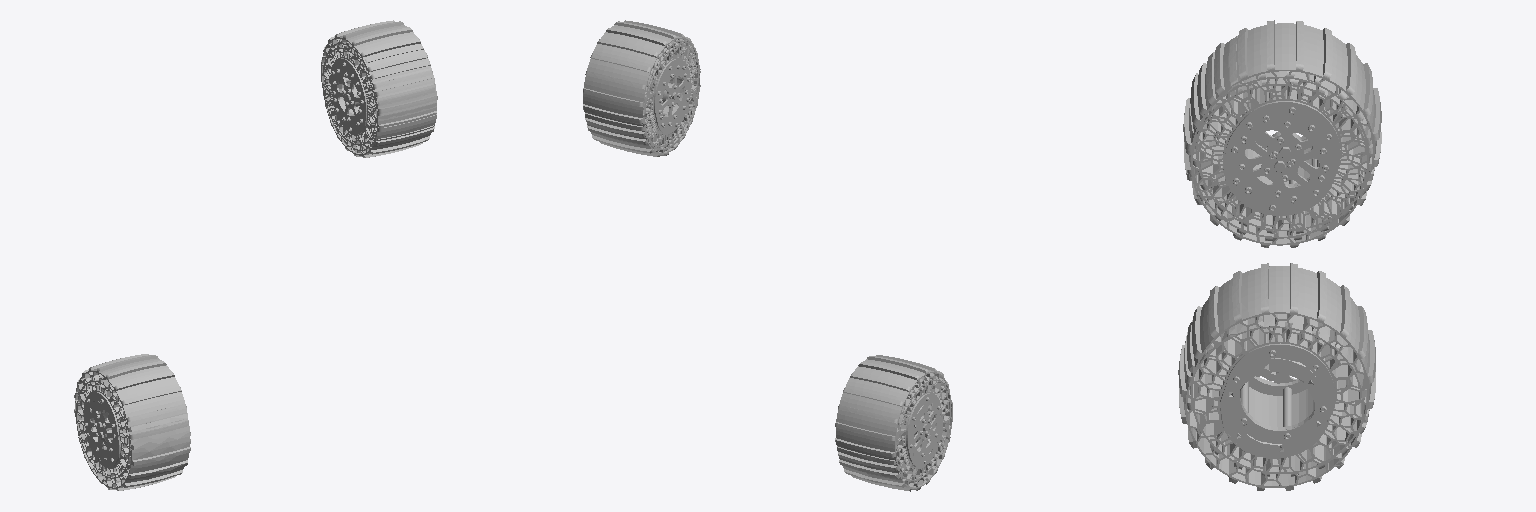
URDF robot description (MR24-DT-A00.00_2.SLDASM):
<?xml version='1.0' encoding='utf-8'?>
<robot name="MR24-DT-A00.00_2.SLDASM">
  <link name="base_link">
    <inertial>
      <origin xyz="-0.000885923205321869 -0.028119179443882 0.0975795573636295" rpy="0 0 0" />
      <mass value="9.38345533967687" />
      <inertia ixx="0.0130902222960498" ixy="1.8427558457332E-06" ixz="-1.01248654001176E-09" iyy="0.0207681971565289" iyz="0.00110801941555495" izz="0.0292659491028059" />
    </inertial>
    <visual>
      <origin xyz="0 0 0" rpy="0 0 0" />
      <geometry>
        <mesh filename="../meshes/base_link.STL" />
      </geometry>
      <material name="">
        <color rgba="0.752941176470588 0.752941176470588 0.752941176470588 1" />
      </material>
    </visual>
    <collision>
      <origin xyz="0 0 0" rpy="0 0 0" />
      <geometry>
        <mesh filename="../meshes/base_link.STL" />
      </geometry>
    </collision>
  </link>
  <link name="Front_Left Wheel">
    <inertial>
      <origin xyz="-1.03548082763805E-06 0.00282335706328918 5.97855537354253E-07" rpy="0 0 0" />
      <mass value="1.45375895562109" />
      <inertia ixx="0.00515687387483678" ixy="-4.54997044063511E-09" ixz="-5.28518624676698E-09" iyy="0.00750126301372881" iyz="2.62479822634305E-09" izz="0.00515686780911825" />
    </inertial>
    <visual>
      <origin xyz="0 0 0" rpy="1.5708 0 0" />
      <geometry>
        <mesh filename="../meshes/Front_Left Wheel.STL" />
      </geometry>
      <material name="">
        <color rgba="0.752941176470588 0.752941176470588 0.752941176470588 1" />
      </material>
    </visual>
    <collision>
      <origin xyz="0 0 0" rpy="1.5708 0 0" />
      <geometry>
        <mesh filename="../meshes/Front_Left Wheel.STL" />
      </geometry>
    </collision>
  </link>
  <joint name="Front_Left Wheel Joint" type="continuous">
    <origin xyz="0.000000 0.000000 0.498351" rpy="0 0 0" />
    <parent link="base_link" />
    <child link="Front_Left Wheel" />
    <axis xyz="0 -1 0" />
  </joint>
  <link name="Front_Right Wheel">
    <inertial>
      <origin xyz="-1.03548080176985E-06 0.00282335706325032 5.97855546069503E-07" rpy="0 0 0" />
      <mass value="1.45375895562017" />
      <inertia ixx="0.00515687387483691" ixy="-4.54997059706509E-09" ixz="-5.28518657433156E-09" iyy="0.00750126301372899" iyz="2.62479818211546E-09" izz="0.0051568678091181" />
    </inertial>
    <visual>
      <origin xyz="0 0 0" rpy="1.5708 0 0" />
      <geometry>
        <mesh filename="../meshes/Front_Right Wheel.STL" />
      </geometry>
      <material name="">
        <color rgba="0.752941176470588 0.752941176470588 0.752941176470588 1" />
      </material>
    </visual>
    <collision>
      <origin xyz="0 0 0" rpy="1.5708 0 0" />
      <geometry>
        <mesh filename="../meshes/Front_Right Wheel.STL" />
      </geometry>
    </collision>
  </link>
  <joint name="Front_Right Wheel Joint" type="continuous">
    <origin xyz="0.000000 0.000000 0.498464" rpy="0 0 0" />
    <parent link="base_link" />
    <child link="Front_Right Wheel" />
    <axis xyz="0 -1 0" />
  </joint>
  <link name="Center_Left Wheel">
    <inertial>
      <origin xyz="-1.03548080172822E-06 0.0028233570632506 5.97855545736437E-07" rpy="0 0 0" />
      <mass value="1.45375895562016" />
      <inertia ixx="0.00515687387483907" ixy="-4.54997063834433E-09" ixz="-5.28518586577834E-09" iyy="0.00750126301373391" iyz="2.62479826947741E-09" izz="0.00515686780912049" />
    </inertial>
    <visual>
      <origin xyz="0 0 0" rpy="1.5708 0 0" />
      <geometry>
        <mesh filename="../meshes/Center_Left Wheel.STL" />
      </geometry>
      <material name="">
        <color rgba="0.752941176470588 0.752941176470588 0.752941176470588 1" />
      </material>
    </visual>
    <collision>
      <origin xyz="0 0 0" rpy="1.5708 0 0" />
      <geometry>
        <mesh filename="../meshes/Center_Left Wheel.STL" />
      </geometry>
    </collision>
  </link>
  <joint name="Center_Left Wheel Joint" type="continuous">
    <origin xyz="0.000000 0.005589 0.506384" rpy="0 0 0" />
    <parent link="base_link" />
    <child link="Center_Left Wheel" />
    <axis xyz="0 -1 0" />
  </joint>
  <link name="Center_Right Wheel">
    <inertial>
      <origin xyz="-1.03548080190863E-06 0.0028233570632511 5.97855545958481E-07" rpy="0 0 0" />
      <mass value="1.45375895562016" />
      <inertia ixx="0.00515687387483913" ixy="-4.54997069864924E-09" ixz="-5.28518622969079E-09" iyy="0.00750126301373414" iyz="2.62479807474661E-09" izz="0.00515686780912046" />
    </inertial>
    <visual>
      <origin xyz="0 0 0" rpy="1.5708 0 0" />
      <geometry>
        <mesh filename="../meshes/Center_Right Wheel.STL" />
      </geometry>
      <material name="">
        <color rgba="0.752941176470588 0.752941176470588 0.752941176470588 1" />
      </material>
    </visual>
    <collision>
      <origin xyz="0 0 0" rpy="1.5708 0 0" />
      <geometry>
        <mesh filename="../meshes/Center_Right Wheel.STL" />
      </geometry>
    </collision>
  </link>
  <joint name="Center_Right Wheel Joint" type="continuous">
    <origin xyz="0.000000 0.005563 0.506384" rpy="0 0 0" />
    <parent link="base_link" />
    <child link="Center_Right Wheel" />
    <axis xyz="0 -1 0" />
  </joint>
  <link name="Rear_Left Wheel">
    <inertial>
      <origin xyz="-1.03548080149229E-06 0.00282335706325076 5.97855546569104E-07" rpy="0 0 0" />
      <mass value="1.45375895562016" />
      <inertia ixx="0.00515687387483777" ixy="-4.54997062894092E-09" ixz="-5.28518575611129E-09" iyy="0.00750126301373237" iyz="2.62479850527491E-09" izz="0.00515686780911965" />
    </inertial>
    <visual>
      <origin xyz="0 0 0" rpy="1.5708 0 0" />
      <geometry>
        <mesh filename="../meshes/Rear_Left Wheel.STL" />
      </geometry>
      <material name="">
        <color rgba="0.752941176470588 0.752941176470588 0.752941176470588 1" />
      </material>
    </visual>
    <collision>
      <origin xyz="0 0 0" rpy="1.5708 0 0" />
      <geometry>
        <mesh filename="../meshes/Rear_Left Wheel.STL" />
      </geometry>
    </collision>
  </link>
  <joint name="Rear_Left Wheel Joint" type="continuous">
    <origin xyz="0.000000 0.000000 0.490124" rpy="0 0 0" />
    <parent link="base_link" />
    <child link="Rear_Left Wheel" />
    <axis xyz="0 -1 0" />
  </joint>
  <link name="Rear_Right Wheel">
    <inertial>
      <origin xyz="-1.03548080071514E-06 0.00282335706325076 5.9785554540337E-07" rpy="0 0 0" />
      <mass value="1.45375895562016" />
      <inertia ixx="0.00515687387483825" ixy="-4.54997027073155E-09" ixz="-5.2851861444725E-09" iyy="0.00750126301373297" iyz="2.62479818011765E-09" izz="0.00515686780911977" />
    </inertial>
    <visual>
      <origin xyz="0 0 0" rpy="1.5708 0 0" />
      <geometry>
        <mesh filename="../meshes/Rear_Right Wheel.STL" />
      </geometry>
      <material name="">
        <color rgba="0.752941176470588 0.752941176470588 0.752941176470588 1" />
      </material>
    </visual>
    <collision>
      <origin xyz="0 0 0" rpy="1.5708 0 0" />
      <geometry>
        <mesh filename="../meshes/Rear_Right Wheel.STL" />
      </geometry>
    </collision>
  </link>
  <joint name="Rear_Right Wheel Joint" type="continuous">
    <origin xyz="0.000000 0.000000 0.489950" rpy="0 0 0" />
    <parent link="base_link" />
    <child link="Rear_Right Wheel" />
    <axis xyz="0 -1 0" />
  </joint>
</robot>

--- What the picture shows (computed from the rendered views, not written in the file) ---
3 views of the same robot in one strip: view 1: azimuth 30°, elevation 25°; view 2: azimuth 150°, elevation 25°; view 3: azimuth 270°, elevation 25° (orthographic).
Model MR24-DT-A00.00_2.SLDASM with 7 links and 6 joints (6 continuous), rooted at base_link, posed every joint at zero.
Links seen in each view (by area): view 1: Center_Left Wheel, Rear_Left Wheel, Center_Right Wheel, Front_Left Wheel, Rear_Right Wheel; view 2: Center_Left Wheel, Center_Right Wheel, Rear_Left Wheel, Rear_Right Wheel, Front_Left Wheel; view 3: Center_Left Wheel, Center_Right Wheel, Rear_Left Wheel, Front_Left Wheel, Rear_Right Wheel.
Boxes of the visible links, x1,y1,x2,y2 form: Center_Left Wheel: (74,354,188,480); Rear_Left Wheel: (76,377,190,490); Center_Right Wheel: (321,20,434,147); Front_Left Wheel: (323,39,437,153); Rear_Right Wheel: (322,45,436,157); Center_Left Wheel: (835,355,950,483); Center_Right Wheel: (583,20,698,147); Rear_Left Wheel: (837,376,952,491); Rear_Right Wheel: (585,42,700,156); Front_Left Wheel: (585,39,700,151); Center_Left Wheel: (1184,263,1375,476); Center_Right Wheel: (1189,20,1381,233); Rear_Left Wheel: (1178,314,1369,490); Front_Left Wheel: (1183,36,1373,241); Rear_Right Wheel: (1184,78,1374,247).
Bounding box of the posed robot: 0.6138 × 0.213 × 0.7246 m (x, y, z).
Meshes: 7 distinct files referenced, 5 mesh visuals loaded (5 binary STL); not drawn: 2 (reference not matched to a file when rendering).